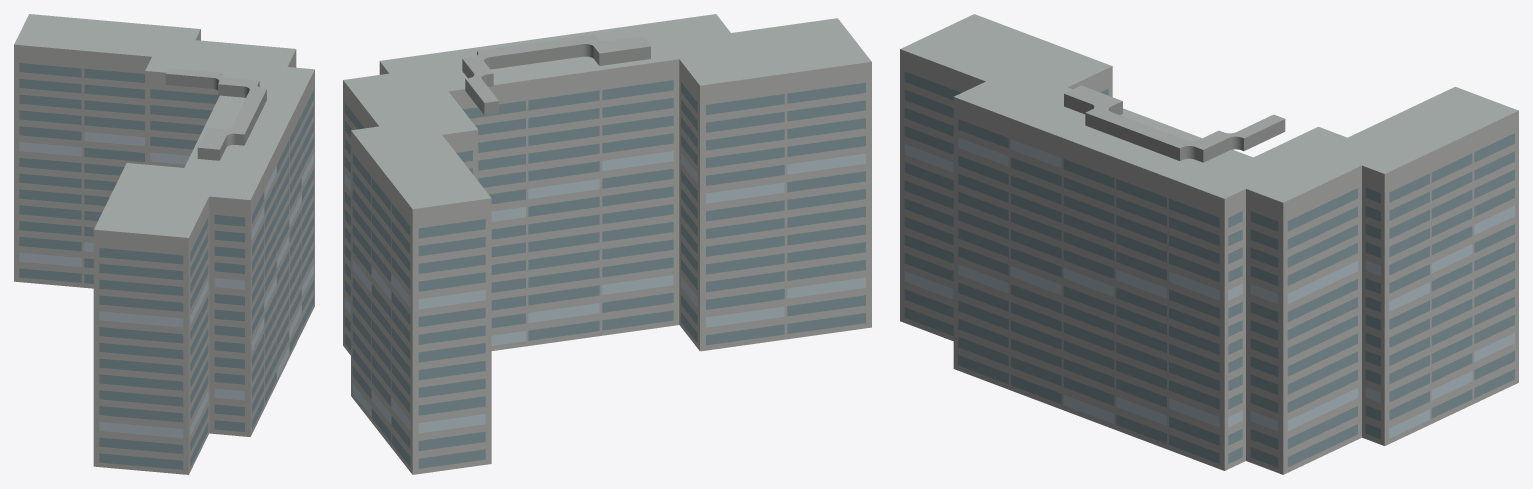
The model's file is apt-a13790701.glb.
3 views of the same model, side by side, from view 1: azimuth 30°, elevation 25°; view 2: azimuth 150°, elevation 25°; view 3: azimuth 270°, elevation 25° (orthographic). The views are drawn at different scales.
Visible parts, largest first — view 1: apt-a13790701; view 2: apt-a13790701; view 3: apt-a13790701.
Boxes of the visible parts, x1,y1,x2,y2 form: apt-a13790701: (14,14,314,474); apt-a13790701: (343,14,871,474); apt-a13790701: (900,14,1518,474).
Size of the model in its own units: 58.27 by 41 by 80.68.
